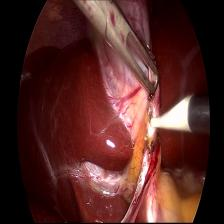Grasper: (77, 1, 160, 95)
Hook: (148, 95, 196, 138)
